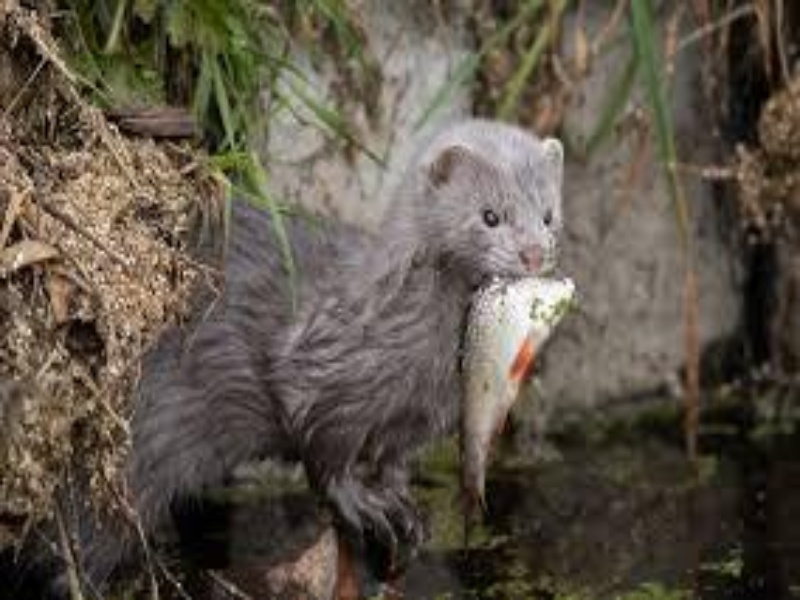minkish: (60, 120, 569, 578)
